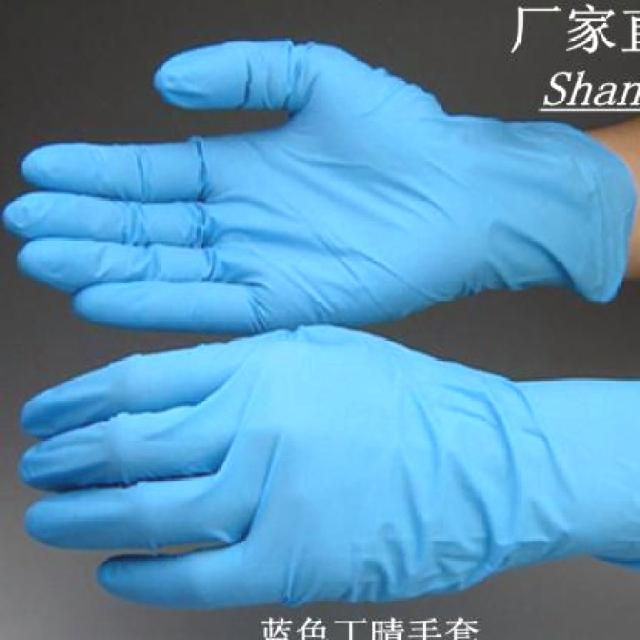hand_glove: (7, 34, 485, 328), (17, 325, 506, 610)
